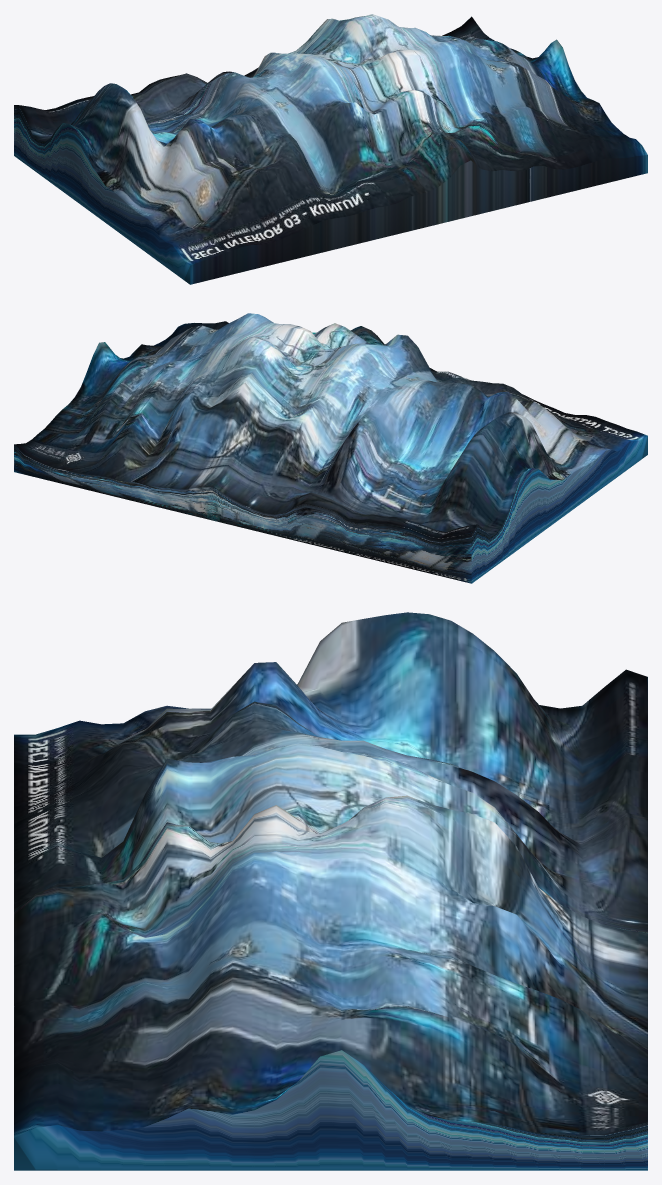
Rendered from SECT_INT_03_Kunlun.glb.
3 renders of one model, top to bottom at view 1: azimuth 30°, elevation 25°; view 2: azimuth 150°, elevation 25°; view 3: azimuth 270°, elevation 25°, orthographic. The views are drawn at different scales.
Parts seen in each view (by area): view 1: SECT_INT_03_Kunlun; view 2: SECT_INT_03_Kunlun; view 3: SECT_INT_03_Kunlun.
Boxes of the visible parts, x1=… form: SECT_INT_03_Kunlun: x1=14, y1=14, x2=647, y2=284; SECT_INT_03_Kunlun: x1=14, y1=313, x2=647, y2=583; SECT_INT_03_Kunlun: x1=14, y1=612, x2=647, y2=1170.
Size of the model in its own units: 2 by 0.51 by 1.33.
1 material, 1 textured.
